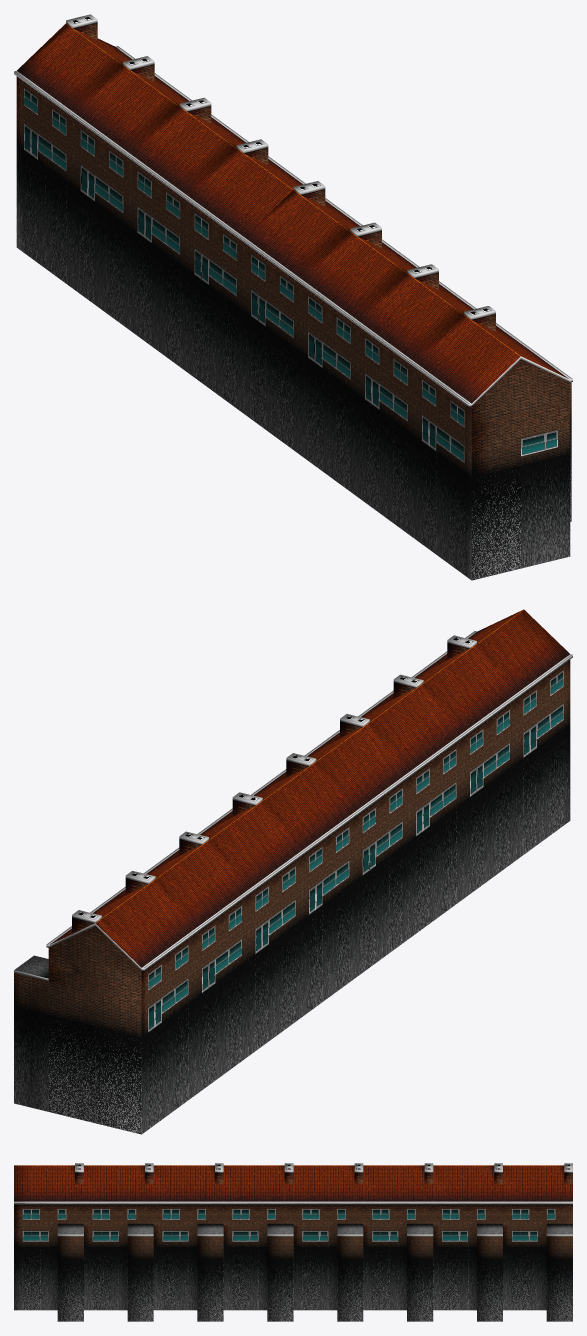
File: doorzon_mod1_4a.fbx
The picture shows the model from 3 angles, top to bottom: view 1: azimuth 30°, elevation 25°; view 2: azimuth 150°, elevation 25°; view 3: azimuth 270°, elevation 25°; orthographic projection. The views are drawn at different scales.
Parts seen in each view (by area): view 1: doorzon_mod1_4a; view 2: doorzon_mod1_4a; view 3: doorzon_mod1_4a.
Boxes of the visible parts, left/top/right/bottom form: doorzon_mod1_4a: left=14, top=14, right=572, bottom=580; doorzon_mod1_4a: left=14, top=609, right=572, bottom=1134; doorzon_mod1_4a: left=14, top=1163, right=572, bottom=1321.
Size of the model in its own units: 1262 by 1879 by 7200.
